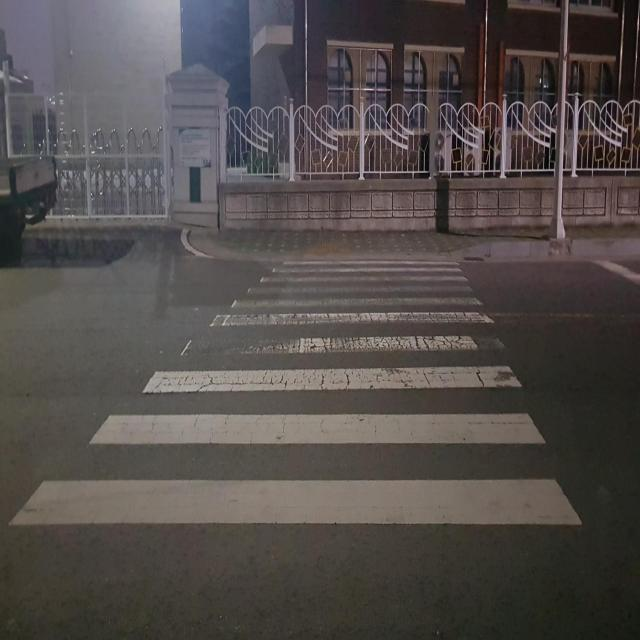횡단보도: (5, 250, 586, 536)
